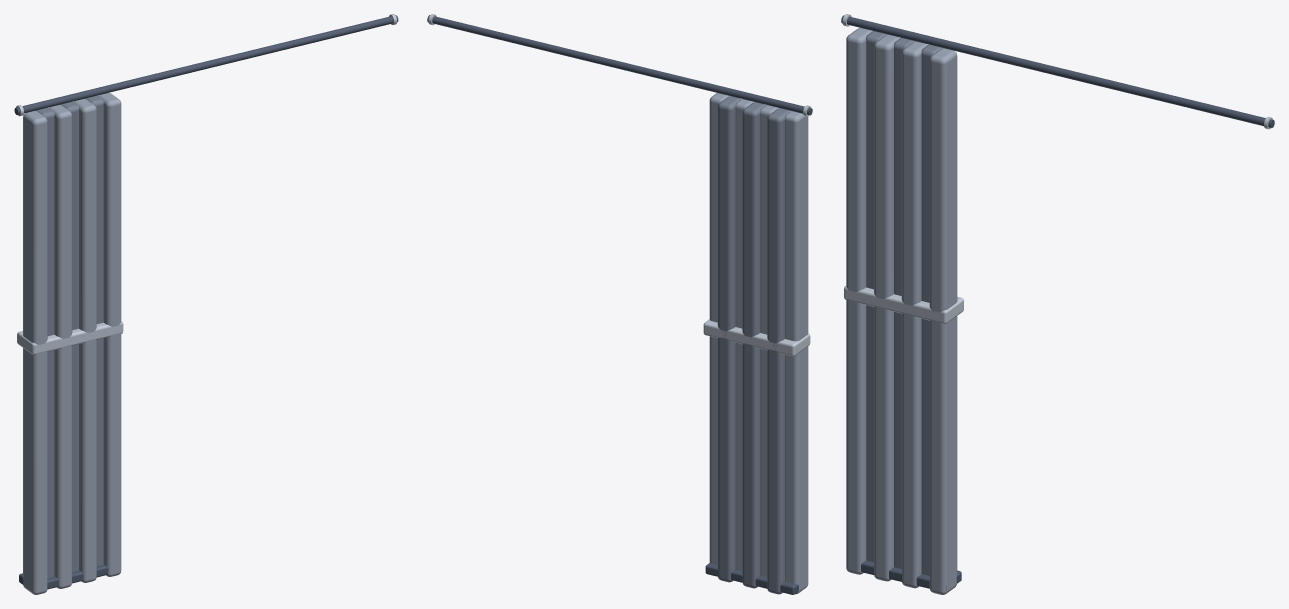
The model's file is curtain_left.glb.
The picture shows the model from 3 angles, left to right: view 1: azimuth 30°, elevation 25°; view 2: azimuth 150°, elevation 25°; view 3: azimuth 330°, elevation 25°; orthographic projection. The views are drawn at different scales.
Visible parts, largest first — view 1: curtain_left; view 2: curtain_left; view 3: curtain_left.
Part boxes in pixels (<box>): curtain_left: <box>14,14,398,594</box>; curtain_left: <box>427,14,812,594</box>; curtain_left: <box>841,14,1274,594</box>.
Size of the model in its own units: 1.91 by 2.33 by 0.1476.
